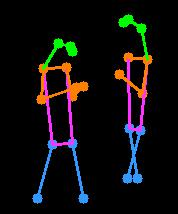normal: (23, 30, 96, 211), (102, 8, 165, 189)
